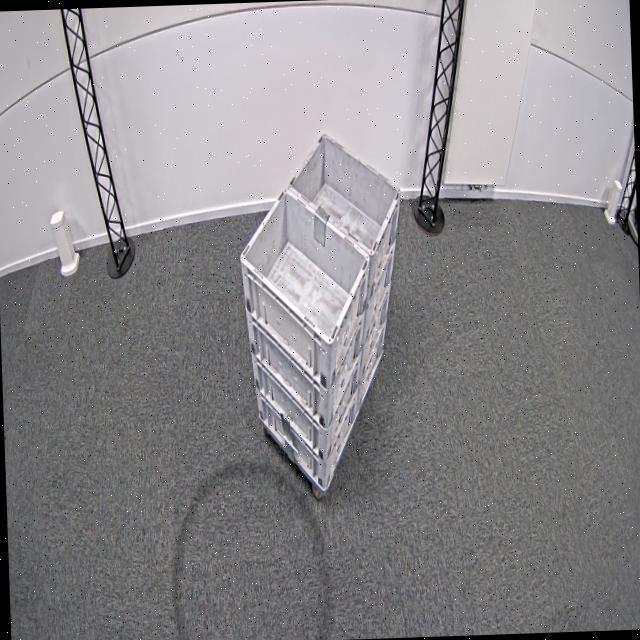Roll8G: (235, 126, 408, 348)
